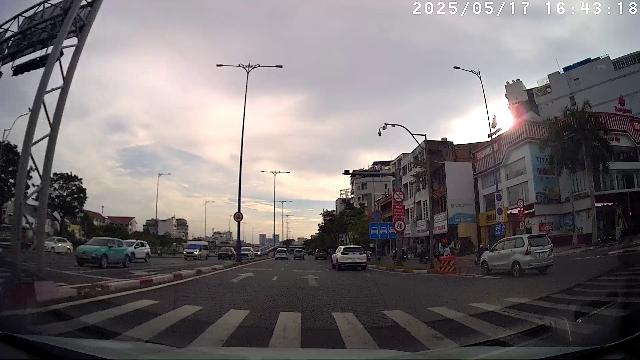127-toc-do-toi-da-50: (519, 222, 525, 230)
127-toc-do-toi-da-60: (394, 219, 406, 232), (233, 212, 243, 222)
